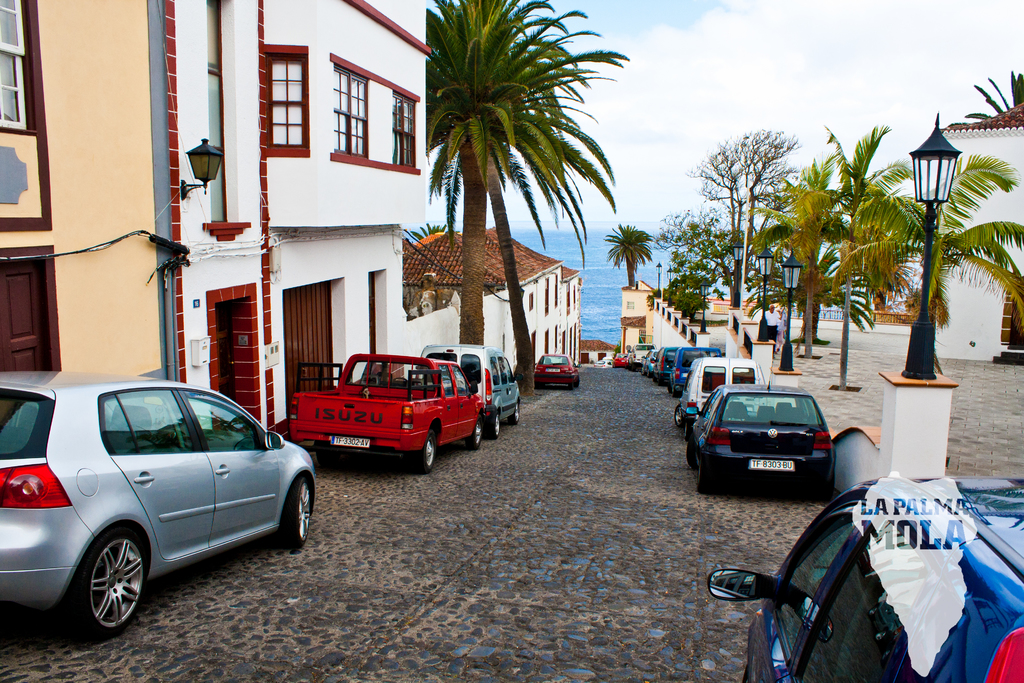Car: (0, 367, 318, 643), (705, 476, 1023, 682), (615, 344, 840, 504), (536, 354, 574, 383)
